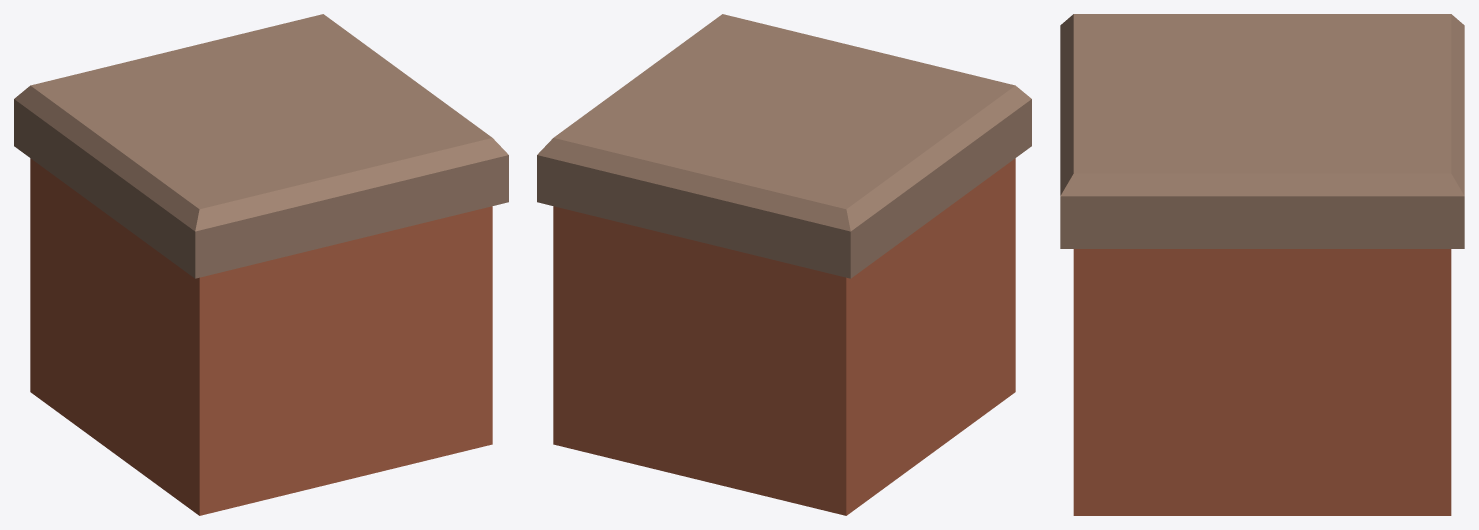
The model's file is Worktop.FBX.
The picture shows the model from 3 angles, left to right: view 1: azimuth 30°, elevation 25°; view 2: azimuth 150°, elevation 25°; view 3: azimuth 270°, elevation 25°; orthographic projection. The views are drawn at different scales.
Parts seen in each view (by area): view 1: Worktop; view 2: Worktop; view 3: Worktop.
Boxes of the visible parts, left/top/right/bottom form: Worktop: left=14, top=14, right=508, bottom=515; Worktop: left=537, top=14, right=1031, bottom=515; Worktop: left=1060, top=14, right=1464, bottom=515.
Size of the model in its own units: 42.15 by 39.37 by 42.15.
